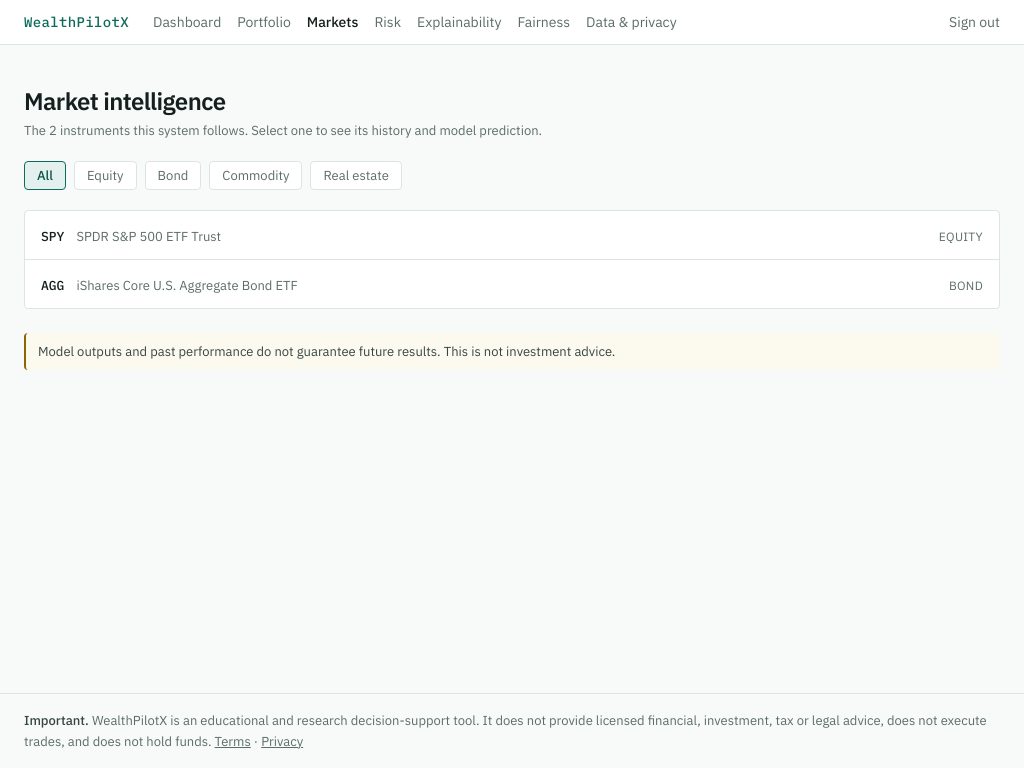
it: Market intelligence › names an unavailable metric instead of blanking it (FR-09)
Click the button "AGG".
click(187, 286)  # box [25,260,999,308]
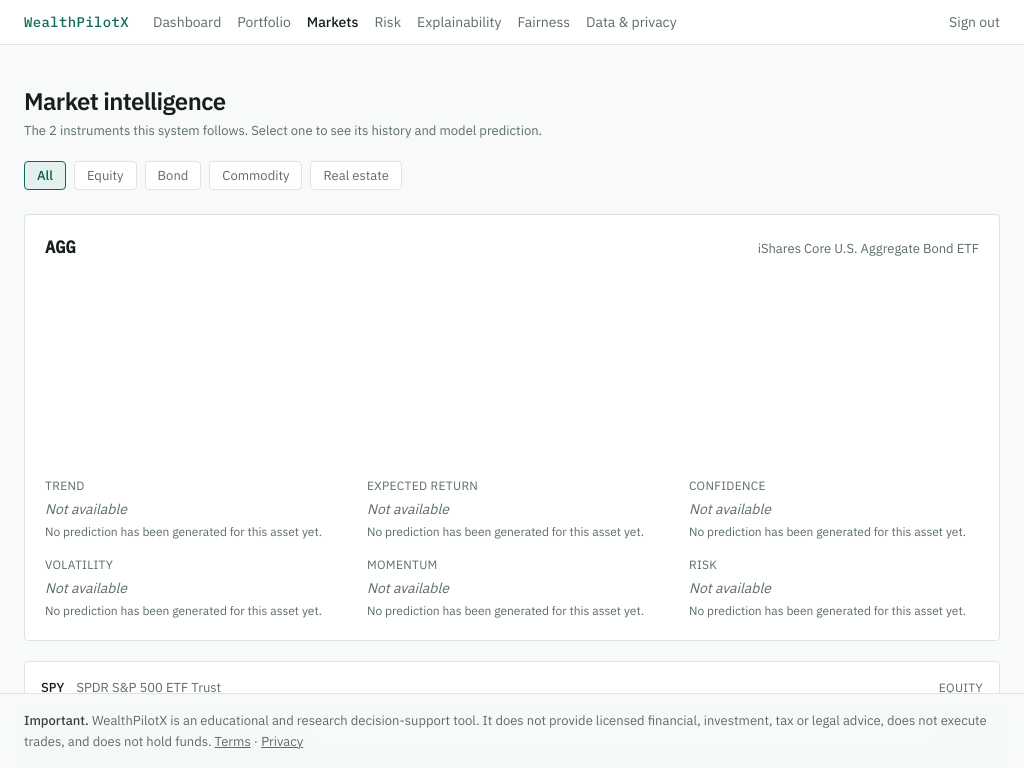
Expected: the text "Not available" below "Trend" is shown, [45,500,127,518]
Expected: the text "No prediction has been generated for this asset yet." below "Trend" is shown, [45,524,322,538]
